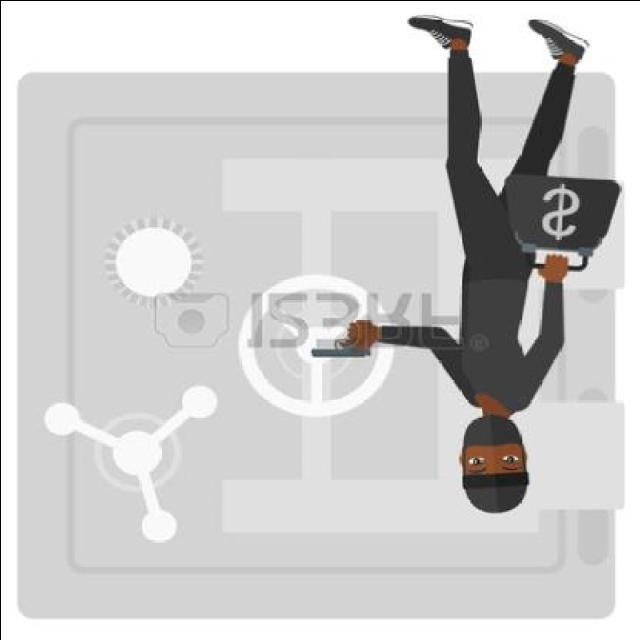pistol: (310, 325, 374, 361)
